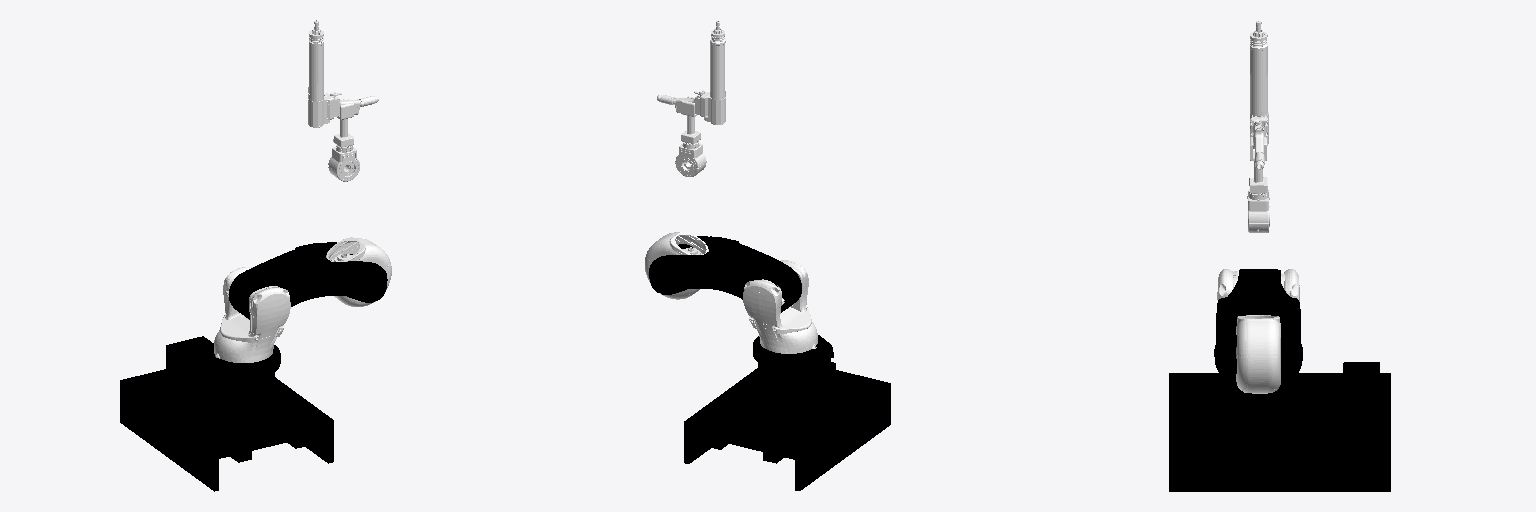
robot.urdf — racer:
<?xml version="1.0" encoding="utf-8"?>
<robot name="racer">
  <link name="world"/>
  <link name="base_link">
    <inertial>
      <origin rpy="0 0 0" xyz="-0.017279            0.00078009           0.14492"/>
      <mass value="6.215"/>
      <inertia ixx="0.05293" ixy="1.9878e-05" ixz="-0.0043586" iyy="0.060873" iyz="5.4713e-06" izz="0.042672"/>
    </inertial>
    <visual>
     
      <geometry>
        <mesh filename="package://racer_description/mesh/base_link.STL"/>
      </geometry>
      <material name="base_link_material">
        <color rgba="0 0 0 1"/>
      </material>
    </visual>
    <collision>
      <geometry>
        <mesh filename="package://racer_description/mesh/base_link.STL"/>
      </geometry>
    </collision>
  </link>
  <link name="link_1">
    <inertial>
      <origin rpy="0 0 0" xyz=" 0.0375246972830294 -0.0047330722058841   0.119959023209445"/>
      <mass value="5.46814182699"/>
      <inertia ixx="0.0559481276261" ixy="9.66643445884e-05" ixz="-0.00417556460737" iyy="0.0332098630782" iyz="1.37699311238e-05" izz="0.0442971694125"/>
    </inertial>
    <visual>
      <geometry>
        <mesh filename="package://racer_description/mesh/link_1.STL"/>
      </geometry>
      <material name="link_1_material">
        <color rgba="1 1 1 1"/>
      </material>
    </visual>
    <collision>
      <geometry>
        <mesh filename="package://racer_description/mesh/link_1.STL"/>
      </geometry>
    </collision>
  </link>
  <link name="link_2">
    <inertial>
      <origin rpy="0 0 0" xyz="-0.0190824069529527 -0.00775028525116991  0.199983435151925"/>
      <mass value="3.4970386262"/>
      <inertia ixx="0.0677992942709" ixy="0.000380936310688" ixz="-0.000855778184674" iyy="0.0676014641813" iyz="0.0016683422702" izz="0.0164275616509"/>
    </inertial>
    <visual>
      <geometry>
        <mesh filename="package://racer_description/mesh/link_2.STL"/>
      </geometry>
      <material name="link_2_material">
        <color rgba="0 0 0 1"/>
      </material>
    </visual>
    <collision>
      <geometry>
        <mesh filename="package://racer_description/mesh/link_2.STL"/>
      </geometry>
    </collision>
  </link>
  <link name="link_3">
    <inertial>
      <origin rpy="0 0 0" xyz="-0.0174695057689258 -0.00108883931260707 -0.00846478214002855"/>
      <mass value="2.68331708367"/>
      <inertia ixx="0.00685071381057" ixy="0.000112640516974" ixz="0.00186954281903" iyy="0.00785316794832" iyz="-0.000111709680918" izz="0.00558392288231"/>
    </inertial>
    <visual>
      <geometry>
        <mesh filename="package://racer_description/mesh/link_3.STL"/>
      </geometry>
      <material name="link_3_material">
        <color rgba="1 1 1 1"/>
      </material>
    </visual>
    <collision>
      <geometry>
        <mesh filename="package://racer_description/mesh/link_3.STL"/>
      </geometry>
    </collision>
  </link>
  <link name="link_4">
    <inertial>
      <origin rpy="0 0 0" xyz="-0.00227788070042482 -0.00123420975347735 0.0624227170360064"/>
      <mass value="1.62984418881"/>
      <inertia ixx="0.00636789477653" ixy="-2.81769690429e-06" ixz="-7.6286206597e-05" iyy="0.00700400581465" iyz="-3.84855032439e-05" izz="0.00283764341486"/>
    </inertial>
    <visual>
      <geometry>
        <mesh filename="package://racer_description/mesh/link_4.STL"/>
      </geometry>
      <material name="link_4_material">
        <color rgba="0 0 0 1"/>
      </material>
    </visual>
    <collision>
      <geometry>
        <mesh filename="package://racer_description/mesh/link_4.STL"/>
      </geometry>
    </collision>
  </link>
  <link name="link_5">
    <inertial>
      <origin rpy="0 0 0" xyz="8.42234791683474E-06 0.000438242230281476 0.0364200996149726"/>
      <mass value="0.805335362671"/>
      <inertia ixx="0.000450875634719" ixy="-1.62647753018e-07" ixz="5.47682000717e-08" iyy="0.00048212697353" iyz="2.28779867179e-06" izz="0.000531776234546"/>
    </inertial>
    <visual>
      <geometry>
        <mesh filename="package://racer_description/mesh/link_5.STL"/>
      </geometry>
      <material name="link_5_material">
        <color rgba="1 1 1 1"/>
      </material>
    </visual>
    <collision>
      <geometry>
        <mesh filename="package://racer_description/mesh/link_5.STL"/>
      </geometry>
    </collision>
  </link>
  <link name="link_6">
    <inertial>
      <origin rpy="0 0 0" xyz="5.64165774402925E-05 -4.33361315668251E-07 0.00365583421206228"/>
      <mass value="0.073"/> 
      <inertia ixx="6.94455842253e-06" ixy="-3.96352989851e-10" ixz="-3.15927343591e-08" iyy="6.89301150818e-06" iyz="3.03515042446e-10" izz="9.670787784e-06"/>
    </inertial>
    <visual>
      <geometry>
        <mesh filename="package://racer_description/mesh/link_6.STL"/>
      </geometry>
      <material name="link_6_material">
        <color rgba="0 0 0 1"/>
      </material>
    </visual>
    <collision>
      <geometry>
        <mesh filename="package://racer_description/mesh/link_6.STL"/>
      </geometry>
    </collision>
  </link>
  <link name="gripper">
    <visual>
      <geometry>
        <mesh filename="package://racer_description/mesh/gripper_v2.STL"/>
      </geometry>
      <material name="gripper_material">
        <color rgba="1 1 1 1"/>
      </material>
    </visual>
    <collision>
      <geometry>
        <mesh filename="package://racer_description/mesh/gripper_v2.STL"/>
      </geometry>
    </collision>
  </link>
  <joint name="fixed" type="fixed">
    <origin rpy="0.0 0.0 0.0" xyz="0 0 0"/>
    <parent link="world"/>
    <child link="base_link"/>
    <axis xyz="0 0 0"/>
    <limit effort="0.0" lower="0" upper="0" velocity="0"/>
  </joint>
  <joint name="head_swivel" type="revolute">
    <origin rpy="0 0 0" xyz="0.0 0.0 0.1895"/>
    <parent link="base_link"/>
    <child link="link_1"/>
    <axis xyz="0  0  1"/>
    <limit effort="10000.0" lower="-2.96705972839" upper="2.96705972839" velocity="6.98131700798"/>
  </joint>
  <joint name="joint_2" type="revolute">
    <origin rpy="0.0 1.57 0.0" xyz="0.05 0.0 0.1755"/>
    <parent link="link_1"/>
    <child link="link_2"/>
    <axis xyz="0 -1  0"/>
    <limit effort="10000.0" lower="-1.4835298642" upper="2.35619449019" velocity="6.28318530718"/>
  </joint>
  <joint name="joint_3" type="revolute">
    <origin rpy="0.0 -1.57 0.0" xyz="0.0 0.0 0.37"/>
    <parent link="link_2"/>
    <child link="link_3"/>
    <axis xyz="0 -1  0"/>
    <limit effort="10000.0" lower="-2.61799387799" upper="1.57079632679" velocity="6.98131700798"/>
  </joint>
  <joint name="joint_4" type="revolute">
    <origin rpy="0 0 0" xyz="-0.049998 0 0.121"/>
    <parent link="link_3"/>
    <child link="link_4"/>
    <axis xyz="0  0 -1"/>
    <limit effort="100.0" lower="-3.49065850399" upper="3.49065850399" velocity="8.72664625997"/>
  </joint>
  <joint name="joint_5" type="revolute">
    <origin rpy="0 0 0" xyz="0 0 0.26494"/>
    <parent link="link_4"/>
    <child link="link_5"/>
    <axis xyz="0 -1  0"/>
    <limit effort="10000.0" lower="-2.18166156499" upper="2.18166156499" velocity="8.72664625997"/>
  </joint>
  <joint name="joint_6" type="revolute">
    <origin rpy="0 0 0" xyz="0 0 0.0665"/>
    <parent link="link_5"/>
    <child link="link_6"/>
    <axis xyz="0  0 -1"/>
    <limit effort="100.0" lower="-47.1238898038" upper="47.1238898038" velocity="13.962634016"/>
  </joint>
  <joint name="gripper_fixed" type="fixed">
    <parent link="link_6"/>
    <child link="gripper"/>
    <origin rpy="3.1415926536 0.0 0.0" xyz="-0.101962 0.0 0.46533"/>
  </joint>

  <transmission name="$fixed_trans">
    <type>transmission_interface/SimpleTransmission</type>
    <joint name="fixed">
      <hardwareInterface>hardware_interface/PositionJointInterface</hardwareInterface>
    </joint>
    <actuator name="fixed_motor">
      <mechanicalReduction>1</mechanicalReduction>
    </actuator>
  </transmission>

  <transmission name="head_swivel_trans">
    <type>transmission_interface/SimpleTransmission</type>
    <joint name="head_swivel">
      <hardwareInterface>hardware_interface/PositionJointInterface</hardwareInterface>
    </joint>
    <actuator name="head_swivel_motor">
      <mechanicalReduction>1</mechanicalReduction>
    </actuator>
  </transmission>

  <transmission name="joint_1_trans">
    <type>transmission_interface/SimpleTransmission</type>
    <joint name="joint_1">
      <hardwareInterface>hardware_interface/PositionJointInterface</hardwareInterface>
    </joint>
    <actuator name="joint_1_motor">
      <mechanicalReduction>1</mechanicalReduction>
    </actuator>
  </transmission>

  <transmission name="joint_2_trans">
    <type>transmission_interface/SimpleTransmission</type>
    <joint name="joint_2">
      <hardwareInterface>hardware_interface/PositionJointInterface</hardwareInterface>
    </joint>
    <actuator name="joint_2_motor">
      <mechanicalReduction>1</mechanicalReduction>
    </actuator>
  </transmission>

  <transmission name="joint_3_trans">
    <type>transmission_interface/SimpleTransmission</type>
    <joint name="joint_3">
      <hardwareInterface>hardware_interface/PositionJointInterface</hardwareInterface>
    </joint>
    <actuator name="joint_3_motor">
      <mechanicalReduction>1</mechanicalReduction>
    </actuator>
  </transmission>

  <transmission name="joint_4_trans">
    <type>transmission_interface/SimpleTransmission</type>
    <joint name="joint_4">
      <hardwareInterface>hardware_interface/PositionJointInterface</hardwareInterface>
    </joint>
    <actuator name="joint_4_motor">
      <mechanicalReduction>1</mechanicalReduction>
    </actuator>
  </transmission>

  <transmission name="joint_5_trans">
    <type>transmission_interface/SimpleTransmission</type>
    <joint name="joint_5">
      <hardwareInterface>hardware_interface/PositionJointInterface</hardwareInterface>
    </joint>
    <actuator name="joint_5_motor">
      <mechanicalReduction>1</mechanicalReduction>
    </actuator>
  </transmission>

  <transmission name="joint_6_trans">
    <type>transmission_interface/SimpleTransmission</type>
    <joint name="joint_6">
      <hardwareInterface>hardware_interface/PositionJointInterface</hardwareInterface>
    </joint>
    <actuator name="joint_6_motor">
      <mechanicalReduction>1</mechanicalReduction>
    </actuator>
  </transmission>
</robot>

--- What the picture shows (computed from the rendered views, not written in the file) ---
Views: 3 orthographic renders of the robot side by side, from view 1: azimuth 30°, elevation 25°; view 2: azimuth 150°, elevation 25°; view 3: azimuth 270°, elevation 25°.
Robot: racer — 9 links, 8 joints (6 revolute, 2 fixed); root link world; default pose: all joints at 0.
Links seen in each view (by area): view 1: base_link, link_2, link_1, gripper, link_3, link_5; view 2: base_link, link_2, link_1, gripper, link_3, link_5; view 3: base_link, link_2, link_3, gripper, link_1, link_5.
Link boxes in pixels (x1,y1,x2,y2): base_link: (120,336,333,491); link_2: (229,242,387,319); link_1: (214,267,290,362); gripper: (308,20,378,147); link_3: (326,237,391,306); link_5: (328,144,359,181); base_link: (684,335,890,490); link_2: (649,236,801,312); link_1: (743,260,817,353); gripper: (657,21,725,143); link_3: (645,232,708,299); link_5: (675,141,706,176); base_link: (1169,344,1390,491); link_2: (1216,269,1300,379); link_3: (1236,315,1280,393); gripper: (1249,21,1268,192); link_1: (1217,269,1299,358); link_5: (1247,189,1269,232).
Bounding box of the posed robot: 0.774 × 0.6 × 1.43 m (x, y, z).
Meshes: 8 distinct files referenced, 7 mesh visuals loaded (7 binary STL); not drawn: 1 (reference not matched to a file when rendering).